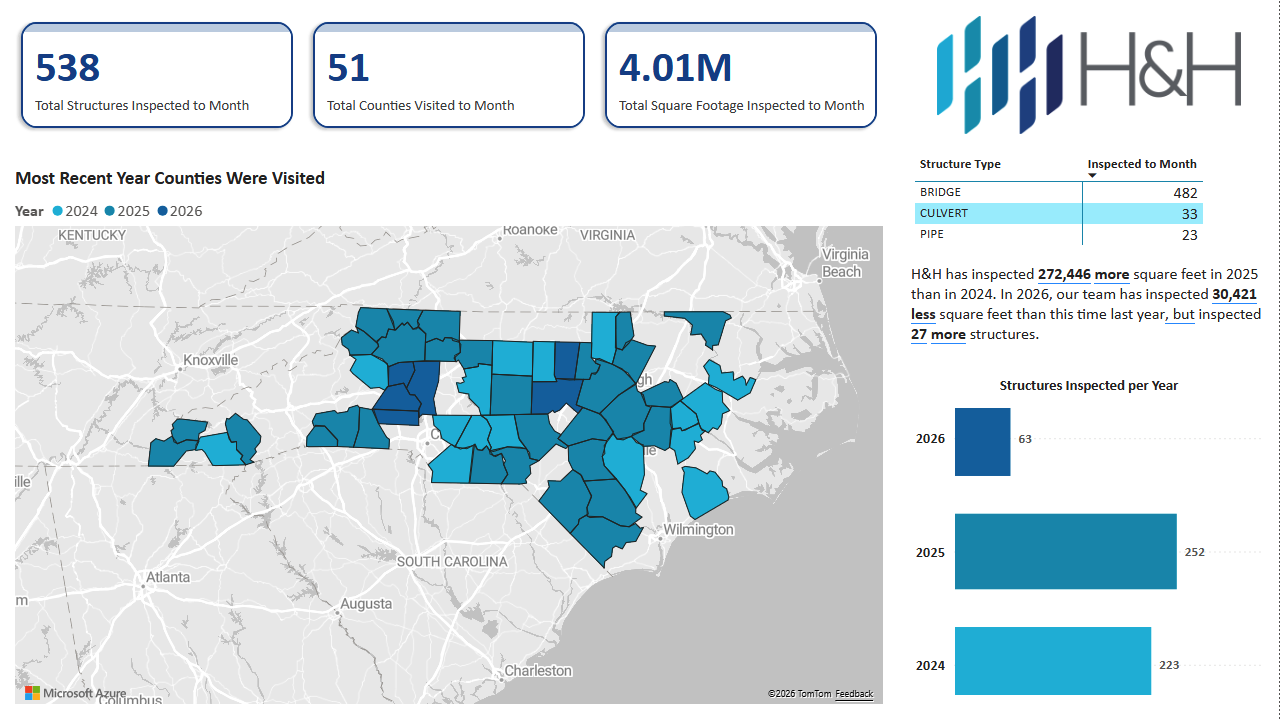

What the dashboard file says about the page in this screenshot:
{"tool":"powerbi","page":{"name":"Overview","canvas":[1280,720],"ordinal":0},"visuals":[{"type":"cardVisual","fields":{"Data":[" Measures.Total Structures Inspected to Month"," Measures.Total Counties Visited to Month"," Measures.Total Square Footage Inspected to Month"]},"box":[0,0,900,150],"z":0},{"type":"azureMap","title":"Most Recent Year Counties Were Visited","fields":{"Category":["tblCountiesVisited.County"],"Series":["tblCountiesVisited.Latest Year Visited"],"Y":["Avg(tblCountiesVisited.Average Latitude)"],"X":["Avg(tblCountiesVisited.Average Longitude)"]},"box":[0,150,900,570],"z":1000},{"type":"image","box":[900,0,380,150],"z":2000},{"type":"pivotTable","fields":{"Rows":["tblAssignedStructures.Structure Type"],"Values":[" Measures.Total Structures Inspected to Month"]},"box":[900,150.2,380,108.5],"z":3000},{"type":"clusteredBarChart","title":"Structures Inspected per Year","fields":{"Category":["tblAssignments.Year Assigned"],"Y":[" Measures.Total Structures Inspected to Month"]},"box":[900,360,380,360],"z":4000},{"type":"textbox","box":[900,258.6,380,101.4],"z":5000}]}

Visuals, with their boxes in screenshot pixels (x1, y1, x2, y2), scaled from the page's 1280x720 canvas onto the 1280x720 screenshot:
cardVisual -  Measures.Total Structures Inspected to Month x  Measures.Total Counties Visited to Month: 0,0,900,150
"Most Recent Year Counties Were Visited" azureMap: 0,150,900,719
image: 900,0,1279,150
pivotTable - tblAssignedStructures.Structure Type x  Measures.Total Structures Inspected to Month: 900,150,1279,259
"Structures Inspected per Year" clusteredBarChart: 900,360,1279,719
textbox: 900,259,1279,360
